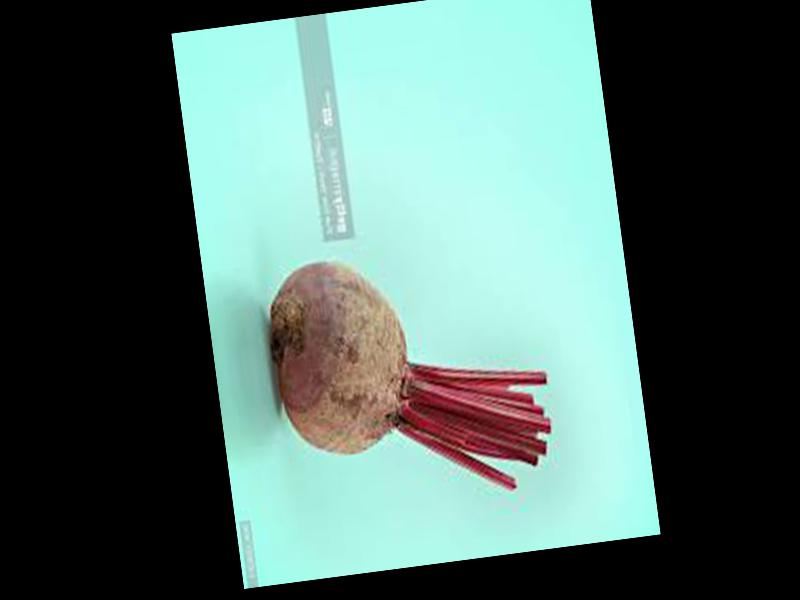Beet: (260, 235, 557, 516)
